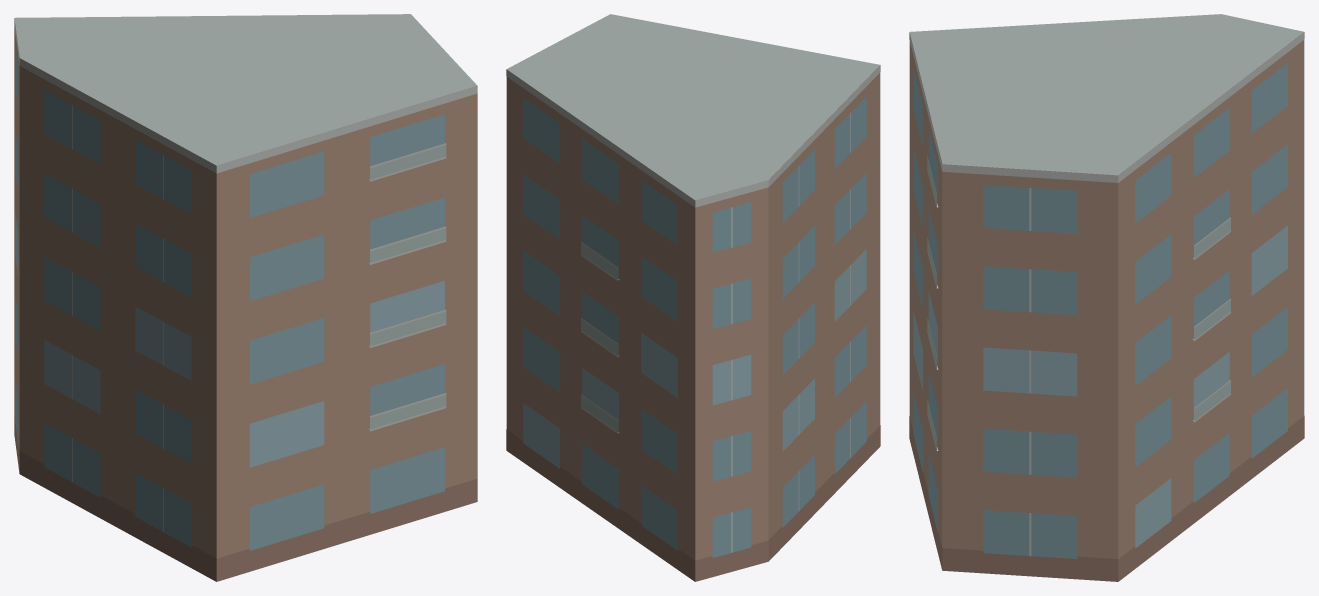
File: survey-upis-32723603.glb
The picture shows the model from 3 angles, left to right: view 1: azimuth 30°, elevation 25°; view 2: azimuth 150°, elevation 25°; view 3: azimuth 270°, elevation 25°; orthographic projection. The views are drawn at different scales.
Parts seen in each view (by area): view 1: survey-upis-32723603.tmp; view 2: survey-upis-32723603.tmp; view 3: survey-upis-32723603.tmp.
Boxes of the visible parts, left/top/right/bottom form: survey-upis-32723603.tmp: left=14, top=14, right=477, bottom=581; survey-upis-32723603.tmp: left=506, top=14, right=880, bottom=581; survey-upis-32723603.tmp: left=909, top=14, right=1304, bottom=581.
Size of the model in its own units: 11.08 by 13 by 11.46.
